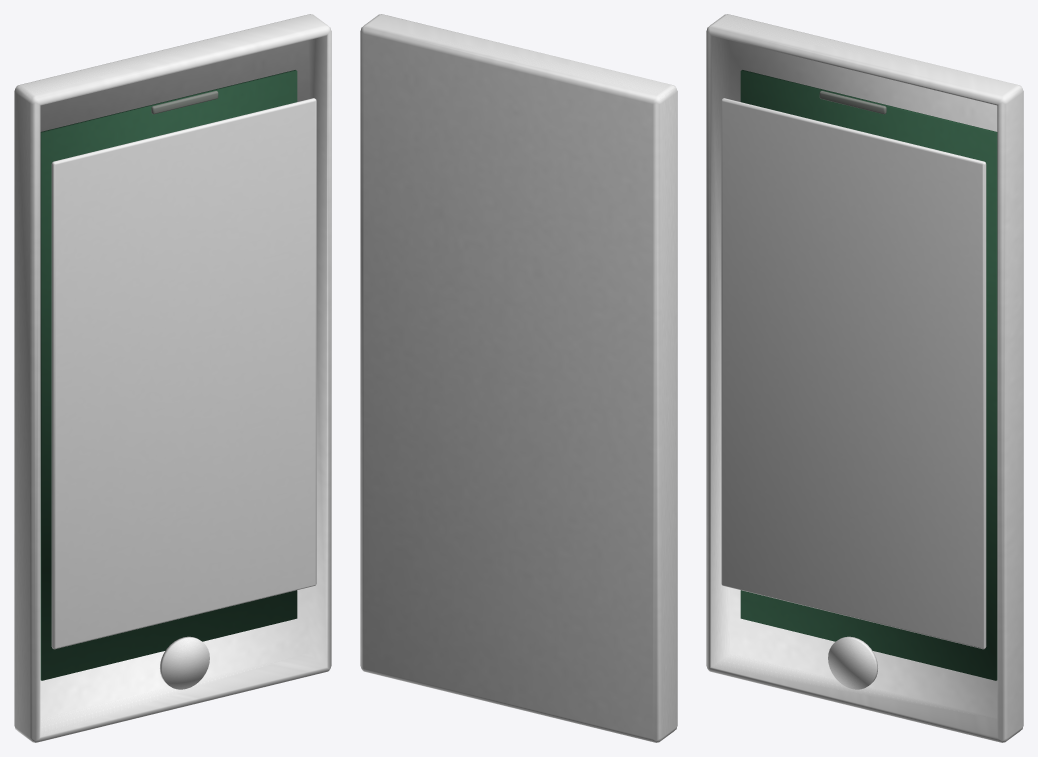
The model's file is intact.glb.
The picture shows the model from 3 angles, left to right: view 1: azimuth 30°, elevation 25°; view 2: azimuth 150°, elevation 25°; view 3: azimuth 330°, elevation 25°; orthographic projection.
Visible parts, largest first — view 1: phone-component-001-screen, phone-component-000-black, phone-component-002-circuit, phone-component-007-black, phone-component-006-metal; view 2: phone-component-000-black; view 3: phone-component-001-screen, phone-component-000-black, phone-component-002-circuit, phone-component-007-black, phone-component-006-metal.
Part boxes in pixels (x1,y1,x2,y2): phone-component-001-screen: [51, 98, 316, 649]; phone-component-000-black: [14, 14, 331, 742]; phone-component-002-circuit: [40, 70, 297, 680]; phone-component-007-black: [160, 636, 209, 689]; phone-component-006-metal: [151, 91, 218, 114]; phone-component-000-black: [360, 14, 677, 742]; phone-component-001-screen: [721, 98, 986, 649]; phone-component-000-black: [706, 14, 1023, 742]; phone-component-002-circuit: [740, 70, 997, 680]; phone-component-007-black: [828, 636, 877, 689]; phone-component-006-metal: [819, 91, 886, 114].
Size of the model in its own units: 0.073 by 0.15 by 0.01.
4 materials, 4 textured.
